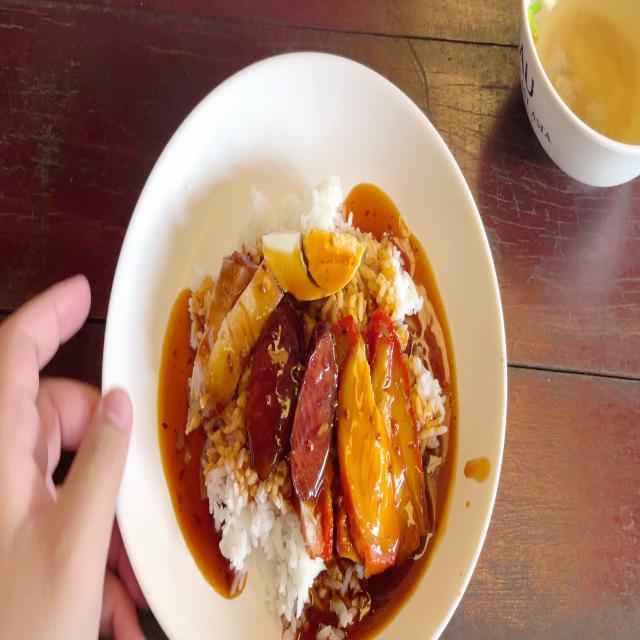boiled_egg: (264, 231, 366, 297)
chainese_sausage: (251, 325, 341, 468), (253, 301, 303, 452), (296, 348, 343, 492)
crispy_pork: (183, 257, 275, 418)
red_pork: (338, 319, 417, 554), (343, 338, 396, 556), (377, 336, 425, 545)
red_pork_and_crispy_pork: (188, 175, 448, 620)
rice: (204, 409, 260, 566), (266, 500, 308, 623)
